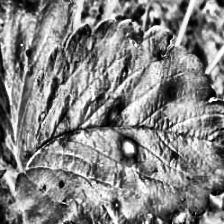Leaf Spot: (12, 18, 224, 224), (0, 0, 77, 160)
